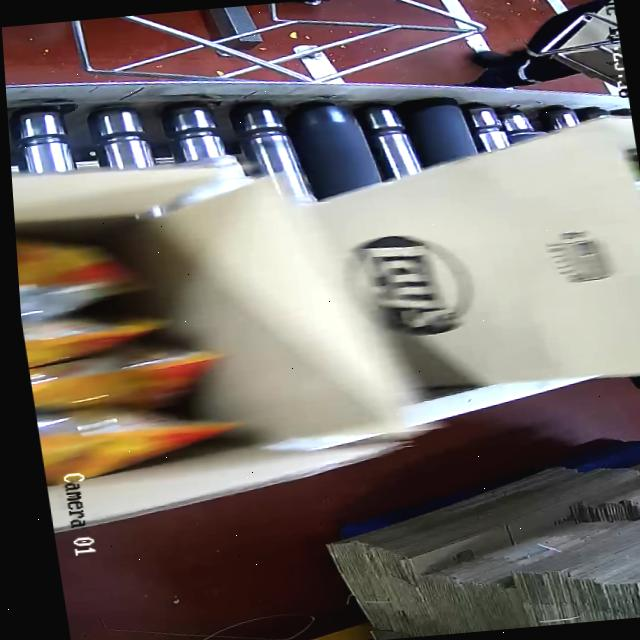FRENCH_CHEESE: (14, 205, 233, 467)
